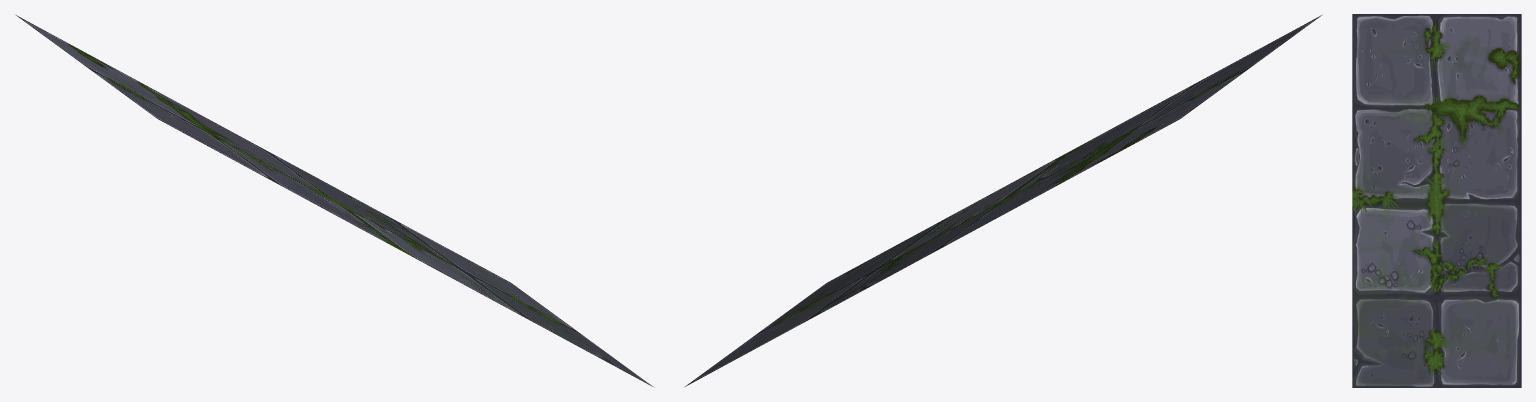
The model's file is MOD_Stairs_01_BotCap_2_half.fbx.
3 renders of one model, left to right at view 1: azimuth 30°, elevation 25°; view 2: azimuth 150°, elevation 25°; view 3: azimuth 270°, elevation 25°, orthographic. The views are drawn at different scales.
Visible parts, largest first — view 1: MOD_Stairs_01_BotCap_2_half; view 2: MOD_Stairs_01_BotCap_2_half; view 3: MOD_Stairs_01_BotCap_2_half.
Boxes of the visible parts, x1,y1,x2,y2 form: MOD_Stairs_01_BotCap_2_half: (16,15,652,386); MOD_Stairs_01_BotCap_2_half: (685,15,1321,386); MOD_Stairs_01_BotCap_2_half: (1352,14,1521,387).
Size of the model in its own units: 400 by 300 by 200.
